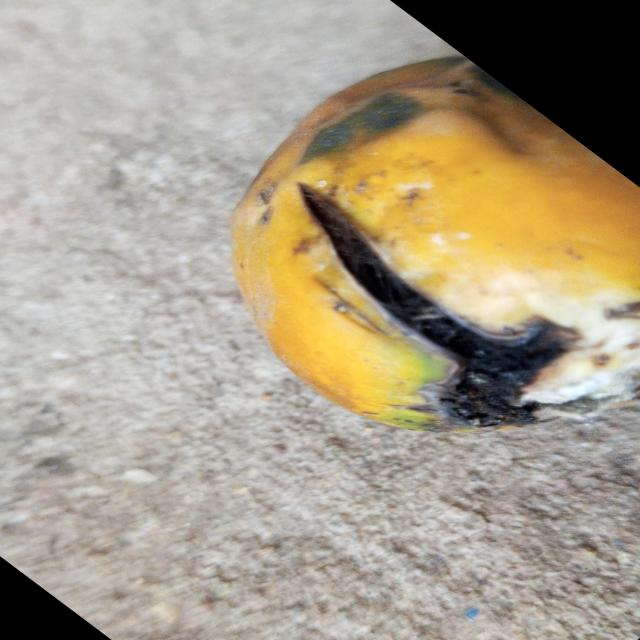damaged: (230, 56, 640, 433)
